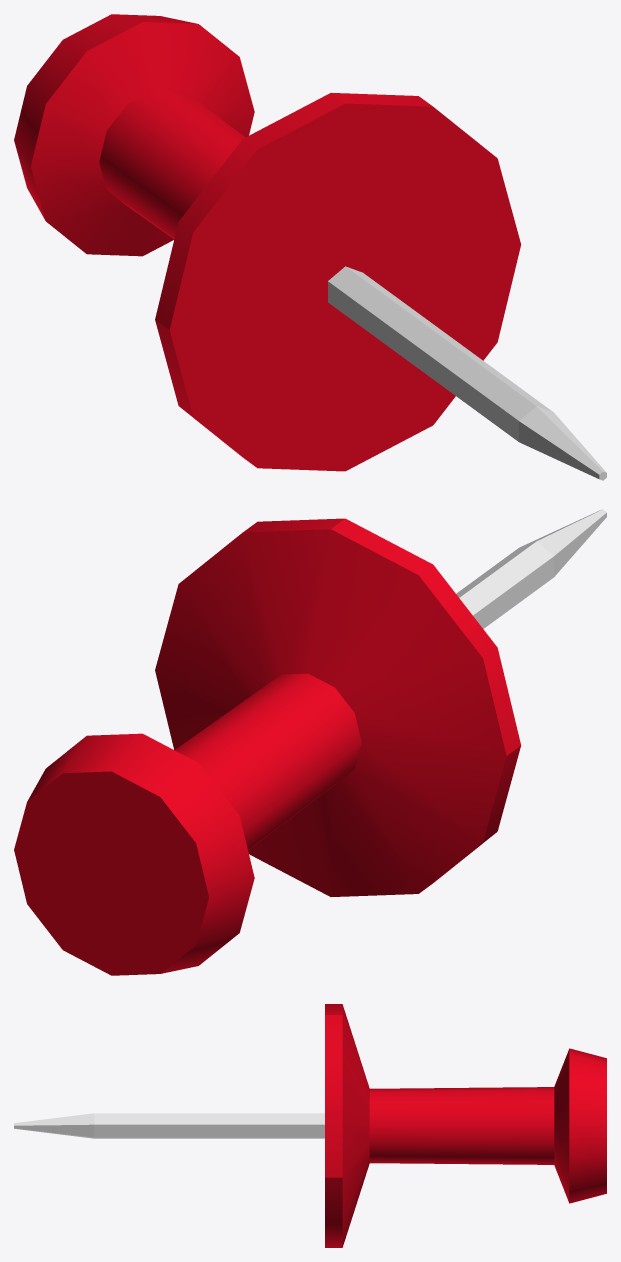
Rendered from Prop_Pin.fbx.
3 renders of one model, top to bottom at view 1: azimuth 30°, elevation 25°; view 2: azimuth 150°, elevation 25°; view 3: azimuth 270°, elevation 25°, orthographic. The views are drawn at different scales.
Visible parts, largest first — view 1: Cylinder.007; view 2: Cylinder.007; view 3: Cylinder.007.
Part boxes in pixels (<box>): Cylinder.007: <box>14,14,606,480</box>; Cylinder.007: <box>14,509,606,975</box>; Cylinder.007: <box>14,1004,606,1247</box>.
Size of the model in its own units: 2.77 by 2.77 by 6.71.
